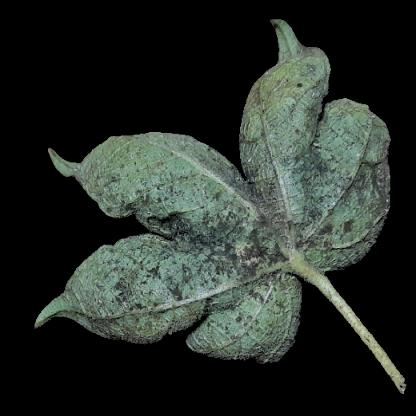curl_stage2: (268, 72, 310, 132), (137, 137, 197, 175)
sooty: (189, 150, 347, 294), (85, 247, 203, 327), (141, 177, 191, 231), (345, 149, 392, 206)
